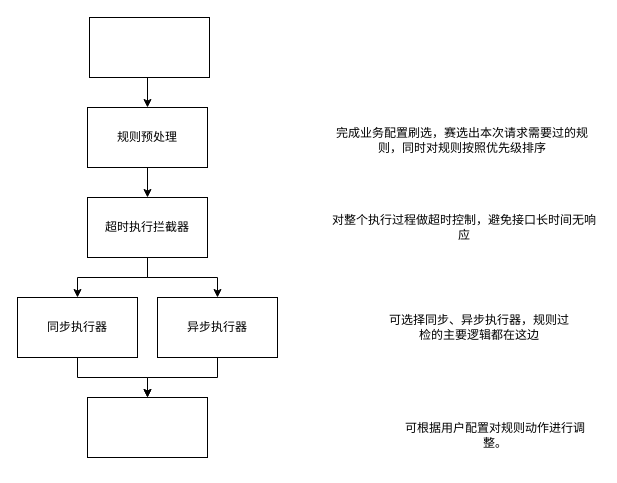
Image size: 617x483. Some labels were removed from this diagram. Each missing label, with the centre of its shape:
规则动作调整: (x=147, y=427)
规则检测器开始: (x=149, y=47)
